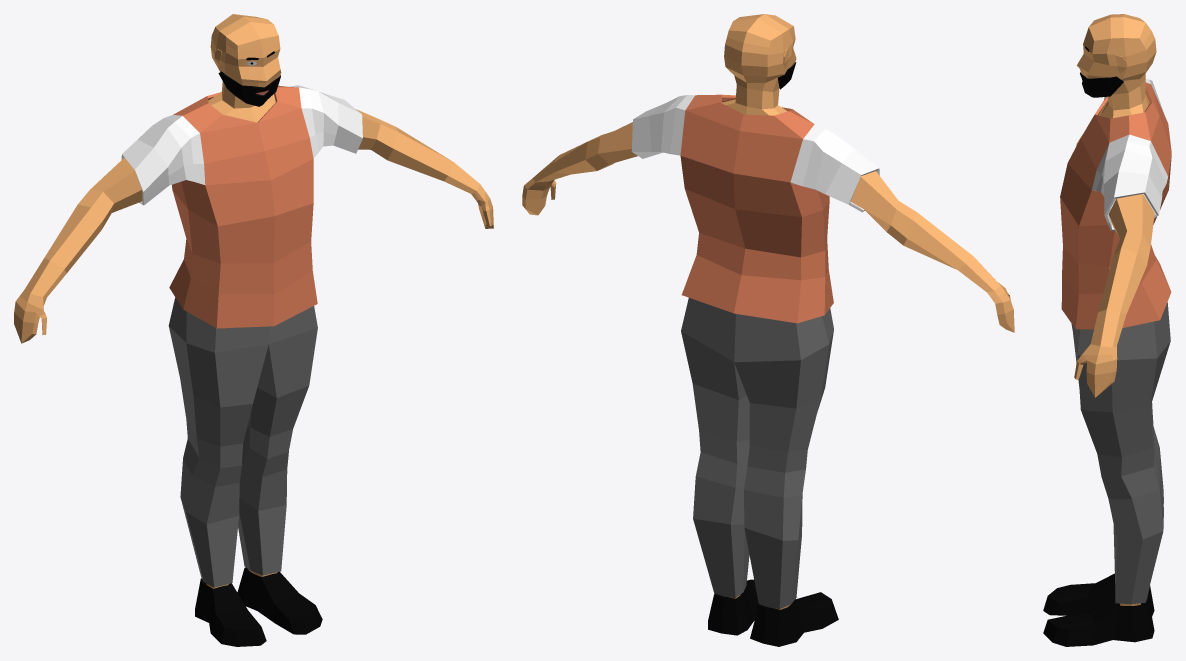
The model's file is npc_2.fbx.
The picture shows the model from 3 angles, left to right: view 1: azimuth 30°, elevation 25°; view 2: azimuth 150°, elevation 25°; view 3: azimuth 270°, elevation 25°; orthographic projection. The views are drawn at different scales.
Visible parts, largest first — view 1: Body; view 2: Body; view 3: Body.
Boxes of the visible parts, x1,y1,x2,y2 form: Body: [14, 14, 493, 646]; Body: [522, 14, 1014, 646]; Body: [1043, 14, 1171, 646].
Bounding box in the file's own units: 537 × 646 × 124.
